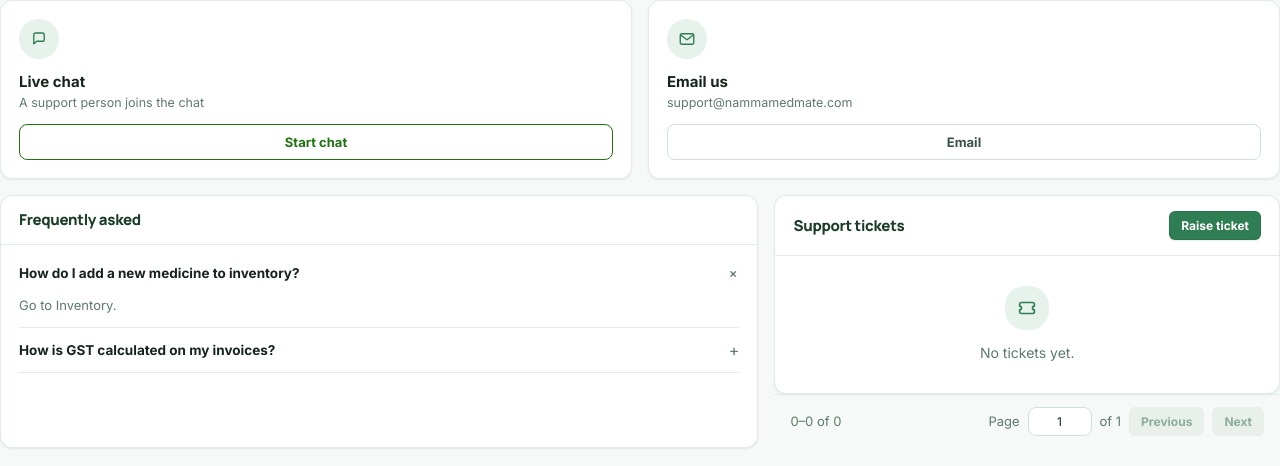
Test: SupportPage › lists FAQs, the email link, and an empty ticket list
Expected: the text "How do I add a new medicine to inventory?" is shown, [19, 265, 300, 281]
Expected: the text "Go to Inventory." is shown, [19, 297, 116, 313]
Step 1. Click the button "How is GST calculated on my invoices? +" → click(147, 350), box [19, 328, 739, 372]
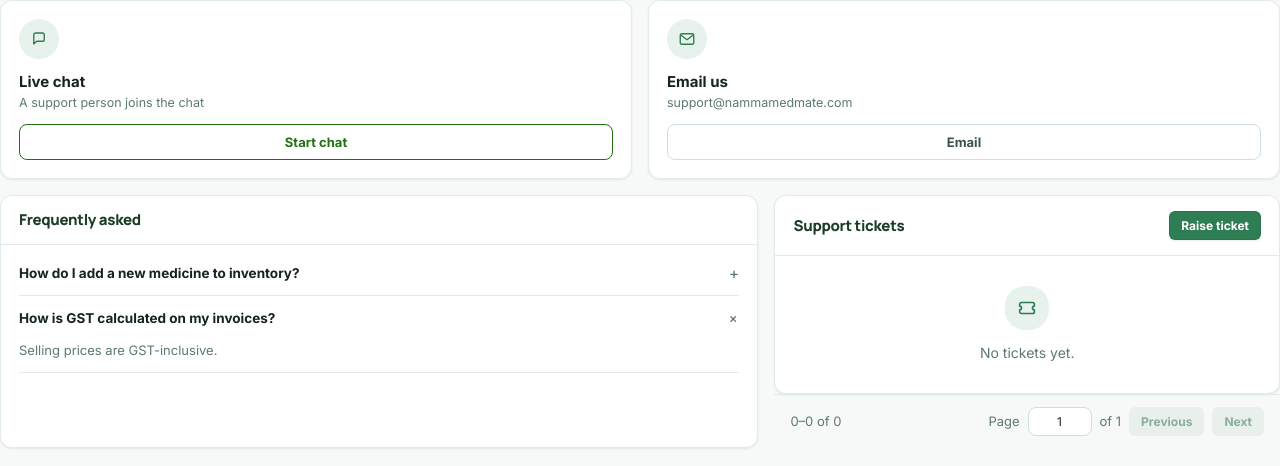
Expected: the text "support@nammamedmate.com" is shown, [667, 94, 852, 110]
Expected: the text "Selling prices are GST-inclusive." is shown, [19, 342, 217, 358]
